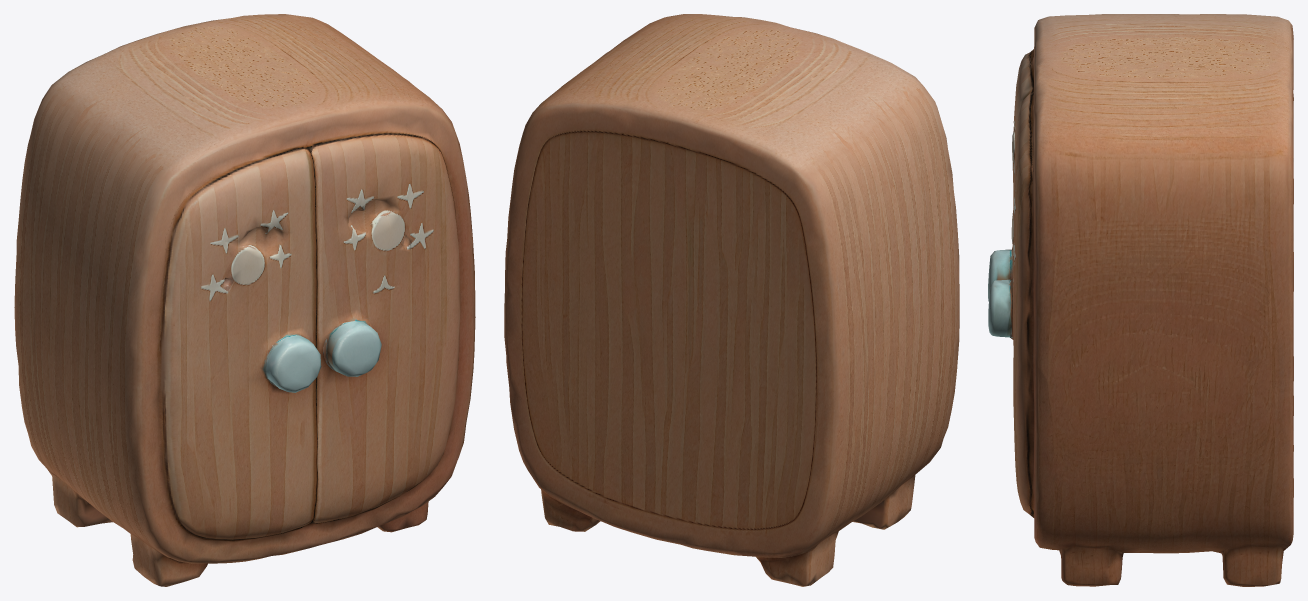
Rendered from Prop_Wardrobe.glb.
3 renders of one model, left to right at view 1: azimuth 30°, elevation 25°; view 2: azimuth 150°, elevation 25°; view 3: azimuth 270°, elevation 25°, orthographic. The views are drawn at different scales.
Visible parts, largest first — view 1: input; view 2: input; view 3: input.
Boxes of the visible parts, x1,y1,x2,y2 form: input: (14,14,475,586); input: (504,14,959,586); input: (988,14,1293,586).
Bounding box in the file's own units: 0.8088 × 1 × 0.5993.
1 material, 1 textured.
